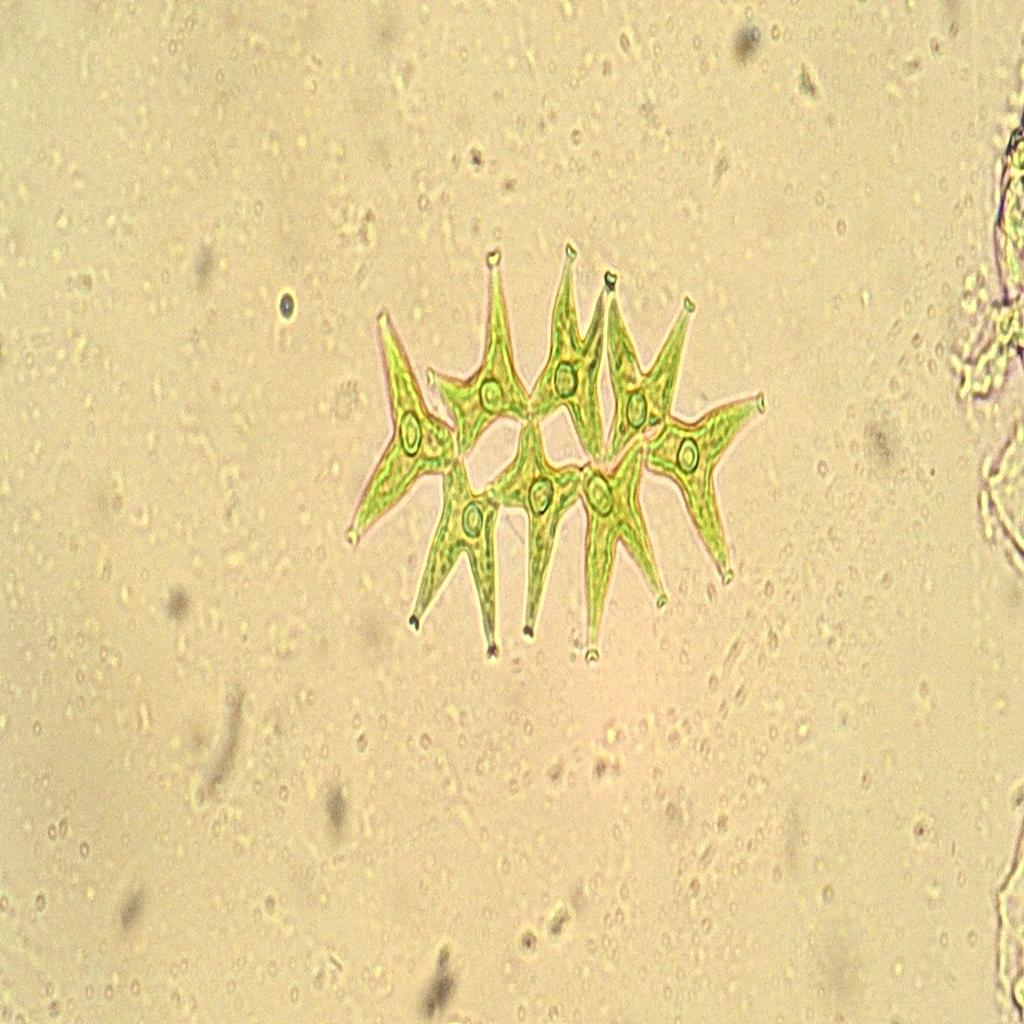Pediastrum_CFI: (338, 194, 779, 697)
